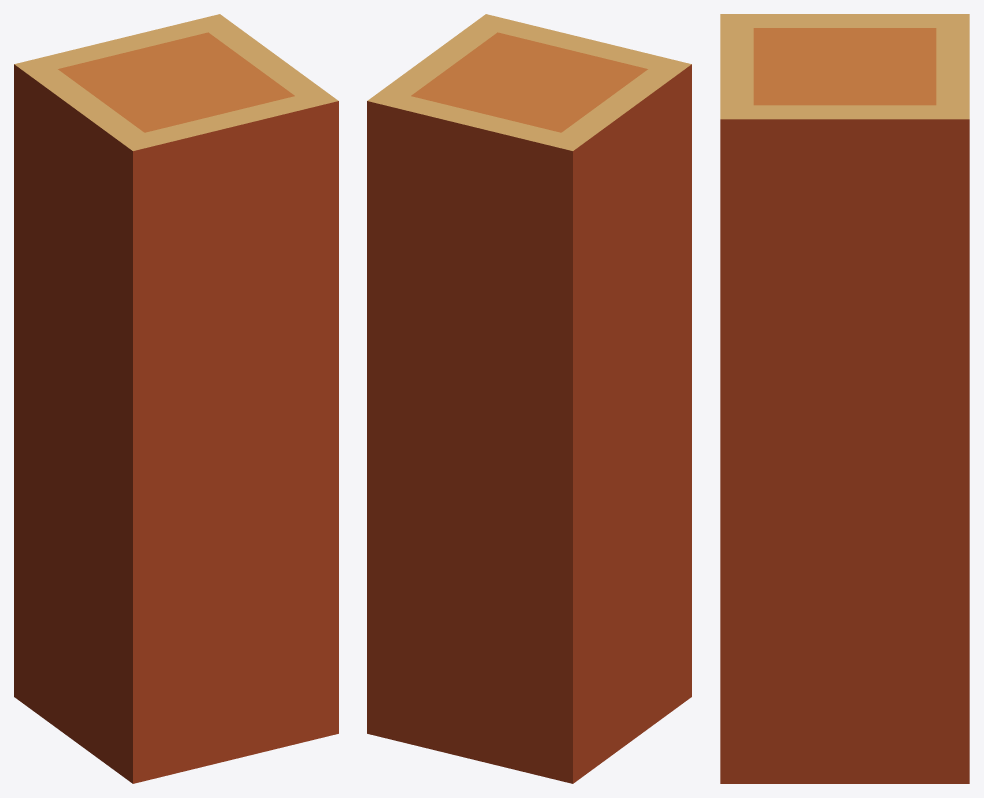
The model's file is TrunkA.fbx.
3 renders of one model, left to right at view 1: azimuth 30°, elevation 25°; view 2: azimuth 150°, elevation 25°; view 3: azimuth 270°, elevation 25°, orthographic. The views are drawn at different scales.
Visible parts, largest first — view 1: TrunkA; view 2: TrunkA; view 3: TrunkA.
Part boxes in pixels (x1,y1,x2,y2): TrunkA: (14, 14, 338, 783); TrunkA: (367, 14, 691, 783); TrunkA: (720, 14, 969, 783).
Size of the model in its own units: 50 by 147 by 50.
